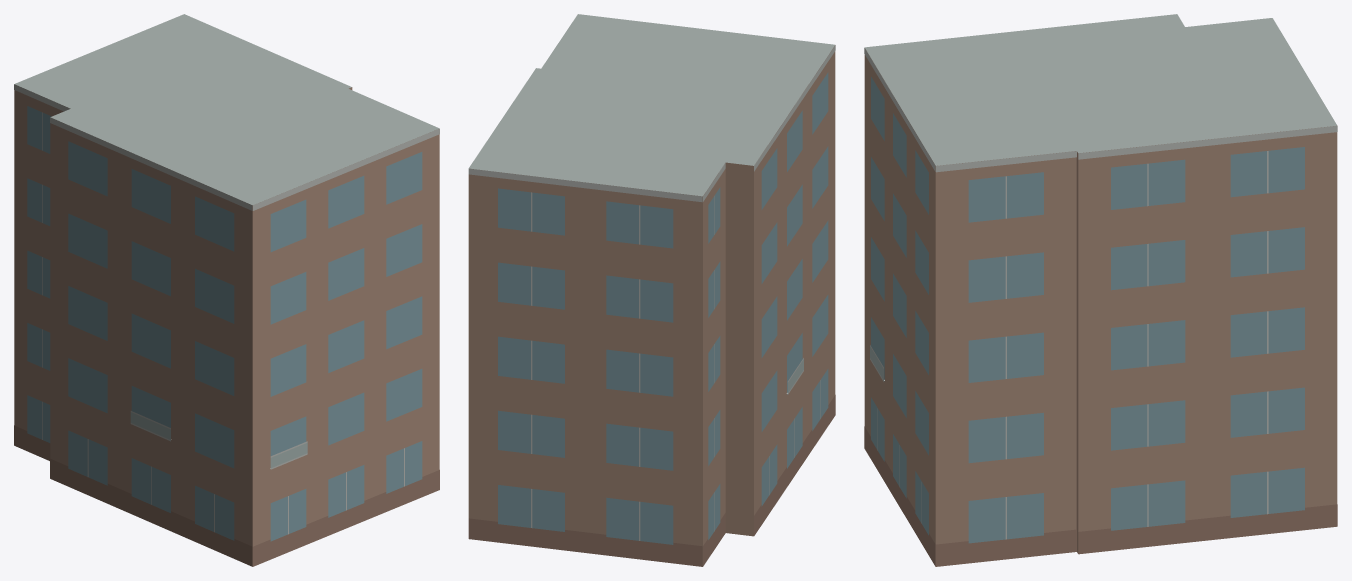
The model's file is survey-upis-32960714.glb.
The picture shows the model from 3 angles, left to right: view 1: azimuth 30°, elevation 25°; view 2: azimuth 150°, elevation 25°; view 3: azimuth 270°, elevation 25°; orthographic projection. The views are drawn at different scales.
Visible parts, largest first — view 1: survey-upis-32960714.tmp; view 2: survey-upis-32960714.tmp; view 3: survey-upis-32960714.tmp.
Part boxes in pixels (box(x1,y1,x2,y2)): survey-upis-32960714.tmp: box(14, 14, 439, 566); survey-upis-32960714.tmp: box(468, 14, 835, 566); survey-upis-32960714.tmp: box(864, 14, 1337, 566).
Size of the model in its own units: 12.4 by 15.25 by 16.32.
